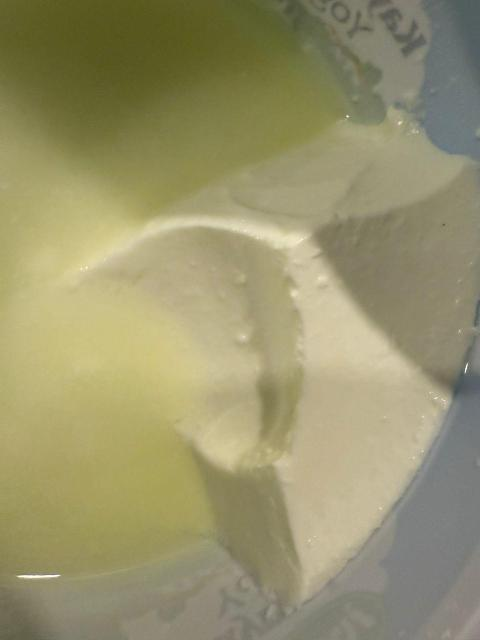Organik: (131, 164, 479, 569)
